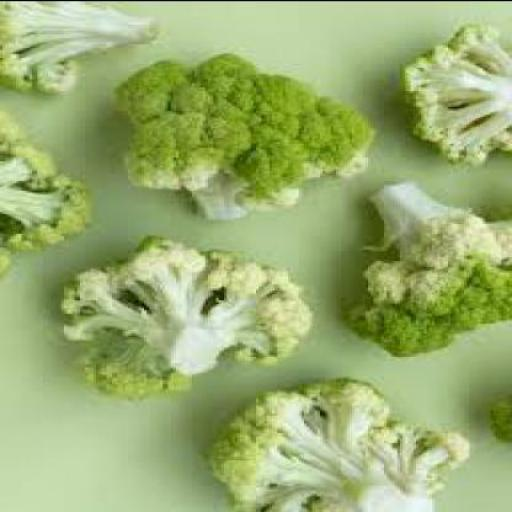biodegradable: (117, 49, 381, 217), (62, 233, 318, 395), (211, 375, 472, 510), (346, 172, 511, 352), (2, 106, 98, 276), (406, 20, 512, 162), (2, 0, 160, 92), (490, 389, 511, 442)
